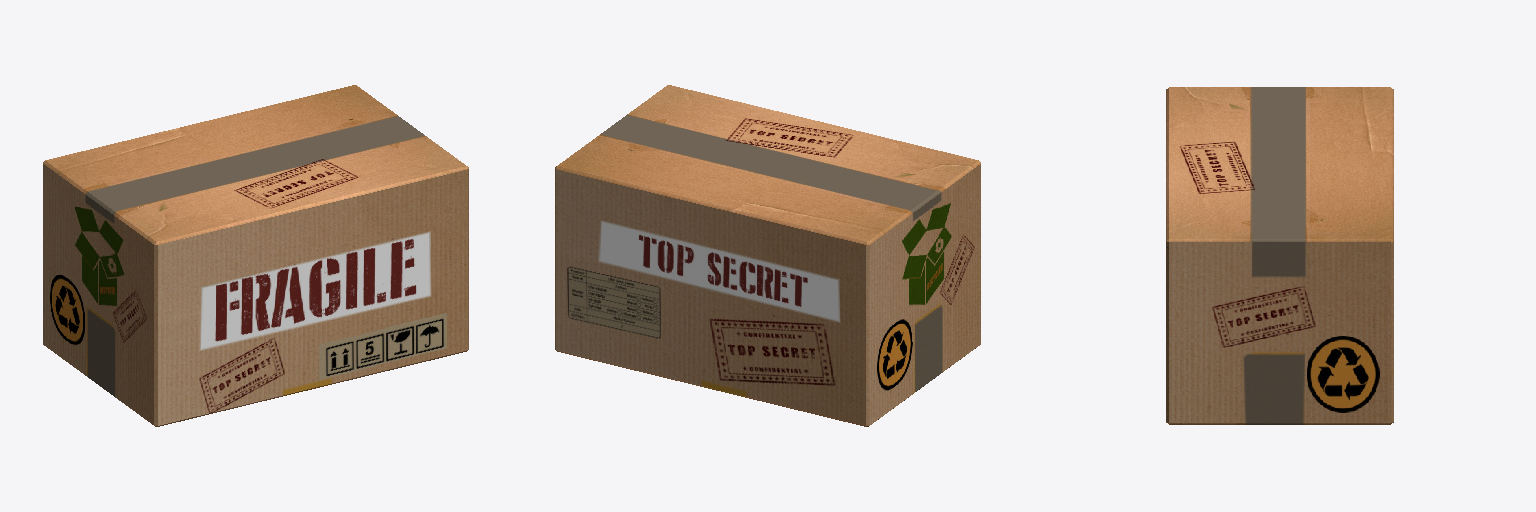
3 renders of one model, left to right at view 1: azimuth 30°, elevation 25°; view 2: azimuth 150°, elevation 25°; view 3: azimuth 270°, elevation 25°, orthographic.
Visible parts, largest first — view 1: box.jpg; view 2: box.jpg; view 3: box.jpg.
Boxes of the visible parts, x1=… form: box.jpg: x1=43, y1=85, x2=468, y2=426; box.jpg: x1=555, y1=85, x2=980, y2=426; box.jpg: x1=1166, y1=87, x2=1393, y2=424.
Size of the model in its own units: 2.5 by 1.41 by 1.56.
1 materials, 1 textured.